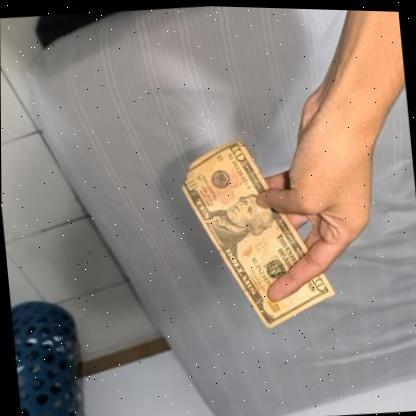ten-front: (174, 124, 340, 336)
